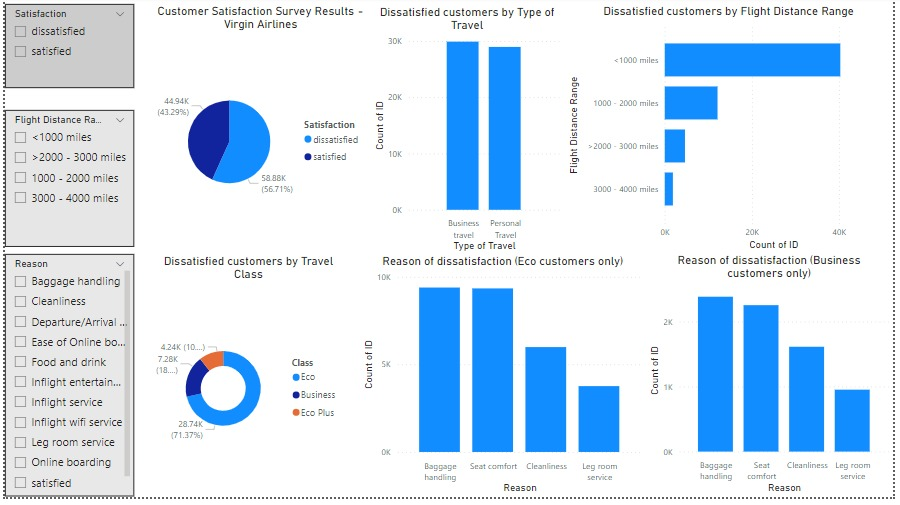

This screenshot's page, from the dashboard's own definition file:
{"tool":"powerbi","page":{"name":"Page 1","canvas":[1280,720],"ordinal":0},"visuals":[{"type":"pieChart","title":"Customer Satisfaction Survey Results - Virgin Airlines","fields":{"Category":["train.satisfaction"],"Y":["CountNonNull(train.ID)"]},"box":[210.2,10.1,315.4,358.6],"z":0},{"type":"columnChart","title":"Dissatisfied customers by Type of Travel","fields":{"Category":["train.Type of Travel"],"Y":["CountNonNull(train.ID)"]},"box":[525.6,11.5,279.4,358.6],"z":1000},{"type":"clusteredBarChart","title":"Dissatisfied customers by Flight Distance Range","fields":{"Category":["train.Flight Distance Range"],"Y":["CountNonNull(train.ID)"]},"box":[805,10.1,473.8,358.6],"z":2000},{"type":"donutChart","title":"Dissatisfied customers by Travel Class","fields":{"Category":["train.Class"],"Y":["CountNonNull(train.ID)"]},"box":[210.2,369.6,280.5,349.4],"z":3000},{"type":"columnChart","title":"Reason of dissatisfaction (Eco customers only)","fields":{"Category":["train.Reason"],"Y":["CountNonNull(train.ID)"]},"box":[509.2,369.6,413.2,349.4],"z":4000},{"type":"columnChart","title":"Reason of dissatisfaction (Business customers only)","fields":{"Y":["CountNonNull(train.ID)"],"Category":["train.Reason"]},"box":[921.6,368.6,357.1,349.9],"z":5000},{"type":"slicer","fields":{"Values":["train.Reason"]},"box":[0,370,186,349],"z":9000},{"type":"slicer","fields":{"Values":["train.Satisfaction"]},"box":[0,10.1,185.8,121],"z":9001},{"type":"slicer","fields":{"Values":["train.Flight Distance Range"]},"box":[0,162.7,185.8,197.3],"z":9002}]}

Visuals, with their boxes in screenshot pixels (x1, y1, x2, y2), scaled from the page's 1280x720 canvas onto the 900x505 screenshot:
"Customer Satisfaction Survey Results - Virgin Airlines" pieChart: {"left": 148, "top": 7, "right": 370, "bottom": 259}
"Dissatisfied customers by Type of Travel" columnChart: {"left": 370, "top": 8, "right": 566, "bottom": 260}
"Dissatisfied customers by Flight Distance Range" clusteredBarChart: {"left": 566, "top": 7, "right": 899, "bottom": 259}
"Dissatisfied customers by Travel Class" donutChart: {"left": 148, "top": 259, "right": 345, "bottom": 504}
"Reason of dissatisfaction (Eco customers only)" columnChart: {"left": 358, "top": 259, "right": 649, "bottom": 504}
"Reason of dissatisfaction (Business customers only)" columnChart: {"left": 648, "top": 259, "right": 899, "bottom": 504}
slicer - train.Reason: {"left": 0, "top": 260, "right": 131, "bottom": 504}
slicer - train.Satisfaction: {"left": 0, "top": 7, "right": 131, "bottom": 92}
slicer - train.Flight Distance Range: {"left": 0, "top": 114, "right": 131, "bottom": 252}
